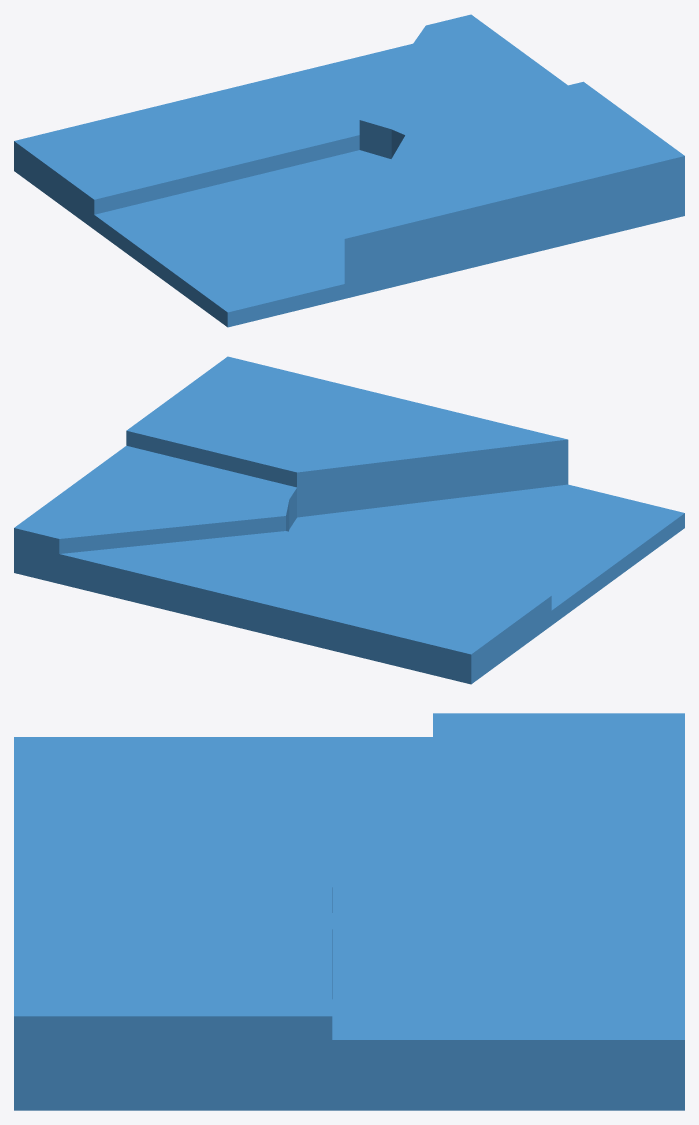
The model's file is New Level 3.fbx.
The picture shows the model from 3 angles, top to bottom: view 1: azimuth 30°, elevation 25°; view 2: azimuth 150°, elevation 25°; view 3: azimuth 270°, elevation 25°; orthographic projection. The views are drawn at different scales.
Parts seen in each view (by area): view 1: New_Level3_2-4, New_Level3_4-4, New_Level3_1-4, New_Level3_3-4; view 2: New_Level3_4-4, New_Level3_2-4, New_Level3_1-4, New_Level3_3-4; view 3: New_Level3_2-4, New_Level3_3-4, New_Level3_4-4, New_Level3_1-4.
Part boxes in pixels (box(x1,y1,x2,y2)): New_Level3_2-4: box(344, 81, 684, 298); New_Level3_4-4: box(14, 43, 412, 229); New_Level3_1-4: box(94, 150, 390, 327); New_Level3_3-4: box(359, 14, 567, 158); New_Level3_4-4: box(59, 531, 551, 684); New_Level3_2-4: box(126, 356, 568, 517); New_Level3_1-4: box(289, 484, 684, 625); New_Level3_3-4: box(14, 445, 296, 583); New_Level3_2-4: box(14, 756, 332, 1110); New_Level3_3-4: box(332, 893, 684, 1110); New_Level3_4-4: box(433, 713, 684, 1004); New_Level3_1-4: box(14, 737, 432, 908).
Size of the model in its own units: 15940 by 12910 by 2000.
